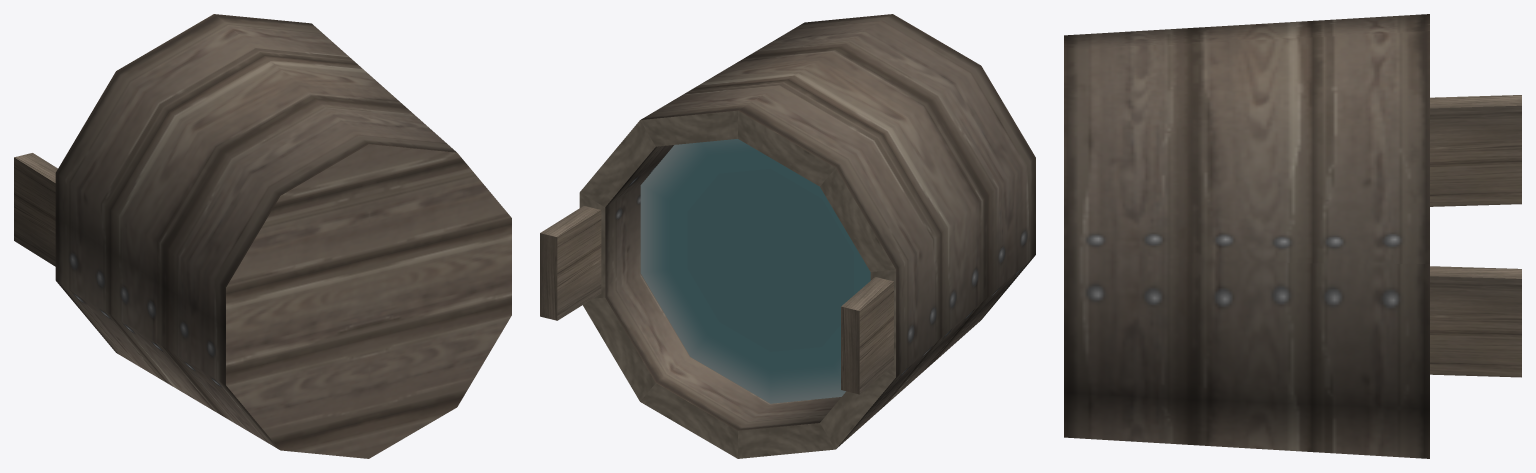
The model's file is Bucket_Full.fbx.
3 views of the same model, side by side, from view 1: azimuth 30°, elevation 25°; view 2: azimuth 150°, elevation 25°; view 3: azimuth 270°, elevation 25° (orthographic). The views are drawn at different scales.
Visible parts, largest first — view 1: Bucket_Full; view 2: Bucket_Full; view 3: Bucket_Full.
Boxes of the visible parts, x1,y1,x2,y2 form: Bucket_Full: (14, 14, 511, 458); Bucket_Full: (540, 14, 1035, 458); Bucket_Full: (1064, 14, 1521, 458).
Bounding box in the file's own units: 0.5065 × 0.5271 × 0.5322.
